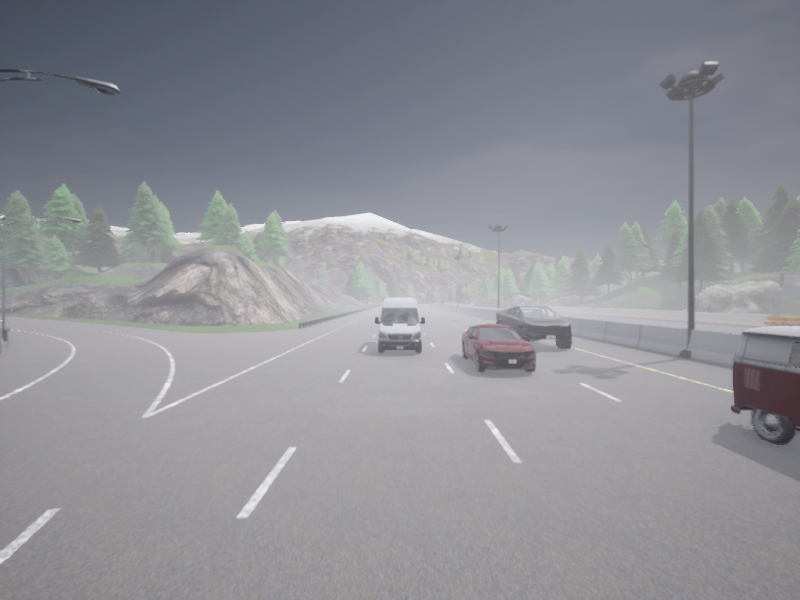vehicle: (731, 326, 799, 443), (461, 323, 535, 372), (496, 306, 571, 349), (375, 298, 424, 353), (462, 300, 467, 304), (467, 301, 470, 304), (441, 302, 444, 304)
